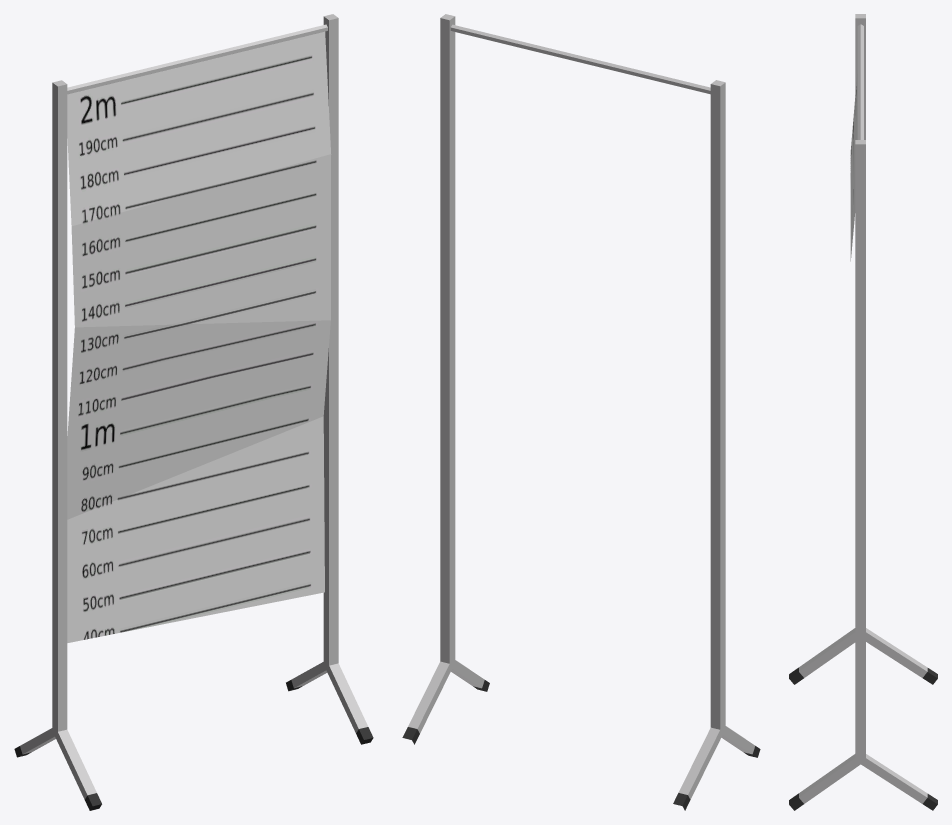
File: MugShotBanner.glb
The picture shows the model from 3 angles, left to right: view 1: azimuth 30°, elevation 25°; view 2: azimuth 150°, elevation 25°; view 3: azimuth 270°, elevation 25°; orthographic projection. The views are drawn at different scales.
Visible parts, largest first — view 1: MugShotBanner (1); view 2: MugShotBanner (1); view 3: MugShotBanner (1).
Boxes of the visible parts, left/top/right/bottom form: MugShotBanner (1): left=14, top=14, right=373, bottom=810; MugShotBanner (1): left=402, top=14, right=760, bottom=810; MugShotBanner (1): left=789, top=14, right=937, bottom=810.
Bounding box in the file's own units: 0.882 × 2.1 × 0.426.
1 material, 1 textured.
